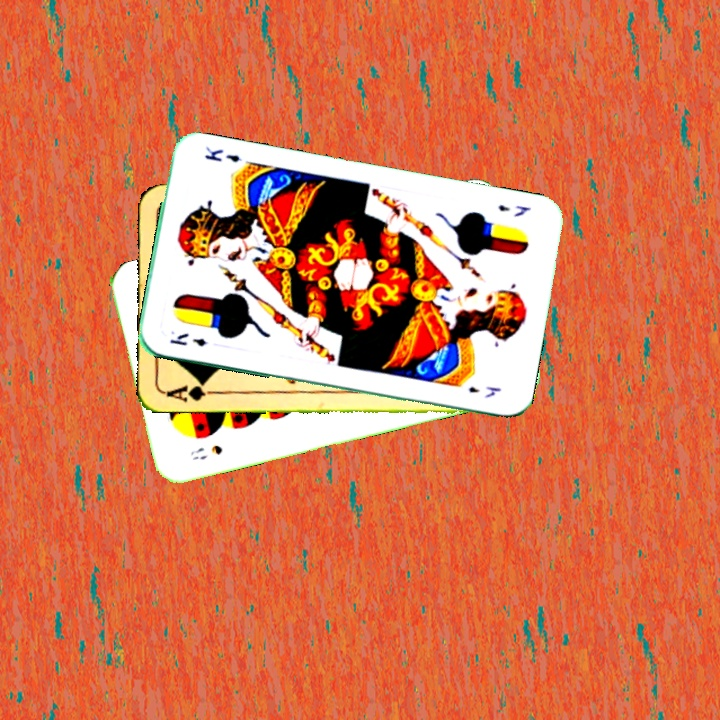EK: (165, 329, 209, 349), (494, 200, 534, 220)
GA: (162, 377, 221, 404)
S8: (186, 440, 225, 463)
